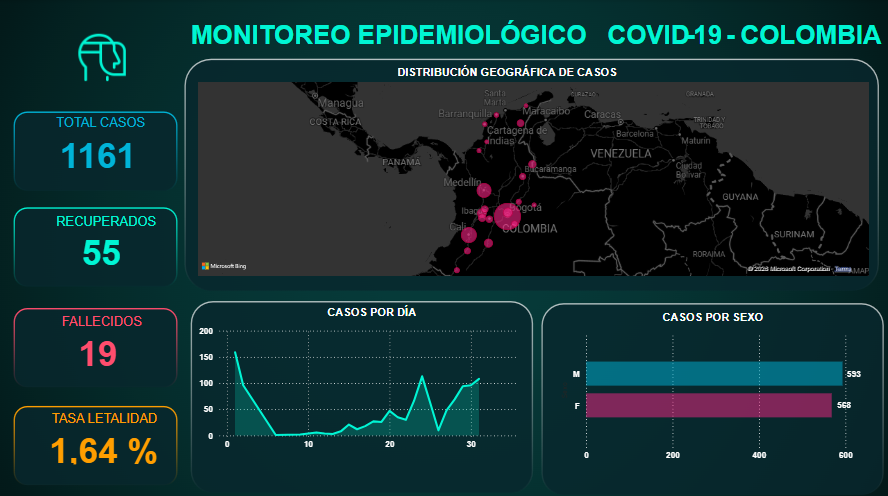

The dashboard page shown, as its layout file describes it:
{"tool":"powerbi","page":{"name":"Página 1","canvas":[1280,720],"ordinal":0},"visuals":[{"type":"card","fields":{"Values":["_Medidas.Total Casos"]},"box":[74.9,194.4,135.4,56.2],"z":0},{"type":"card","fields":{"Values":["_Medidas.Tasa Letalidad"]},"box":[40.3,619.2,221.8,56.2],"z":1000},{"type":"card","fields":{"Values":["_Medidas.Total Fallecidos"]},"box":[74.9,479.5,135.4,56.2],"z":2000},{"type":"card","fields":{"Values":["_Medidas.Total Recuperados"]},"box":[79.2,334.1,136.8,56.2],"z":3000},{"type":"map","title":"Distribución Geográfica de Casos","fields":{"Y":["Avg(colombia_departamentos.Latitud)"],"X":["Avg(colombia_departamentos.Longitud)"],"Size":["_Medidas.Total Casos"],"Category":["colombia_departamentos.Departamento"]},"box":[282.2,115.2,974.9,289.4],"z":4000},{"type":"lineChart","title":"Casos por Día","fields":{"Category":["Casos1.Fecha de diagnóstico.Variación.Jerarquía de fechas.Año","Casos1.Fecha de diagnóstico.Variación.Jerarquía de fechas.Trimestre","Casos1.Fecha de diagnóstico.Variación.Jerarquía de fechas.Mes","Casos1.Fecha de diagnóstico.Variación.Jerarquía de fechas.Día"],"Y":["_Medidas.Total Casos"]},"box":[282.2,463.7,470.9,193],"z":5000},{"type":"clusteredBarChart","title":"Casos por Sexo","fields":{"Category":["Casos1.Sexo"],"Y":["_Medidas.Total Casos"]},"box":[803.5,468,453.6,204.5],"z":6000},{"type":"image","box":[97.9,31.7,100.8,105.1],"z":6001}]}

Visuals, with their boxes in screenshot pixels (x1, y1, x2, y2), scaled from the page's 1280x720 canvas onto the 888x496 screenshot:
card - _Medidas.Total Casos: [52,134,146,173]
card - _Medidas.Tasa Letalidad: [28,427,182,465]
card - _Medidas.Total Fallecidos: [52,330,146,369]
card - _Medidas.Total Recuperados: [55,230,150,269]
"Distribución Geográfica de Casos" map: [196,79,872,279]
"Casos por Día" lineChart: [196,319,522,452]
"Casos por Sexo" clusteredBarChart: [557,322,872,463]
image: [68,22,138,94]
